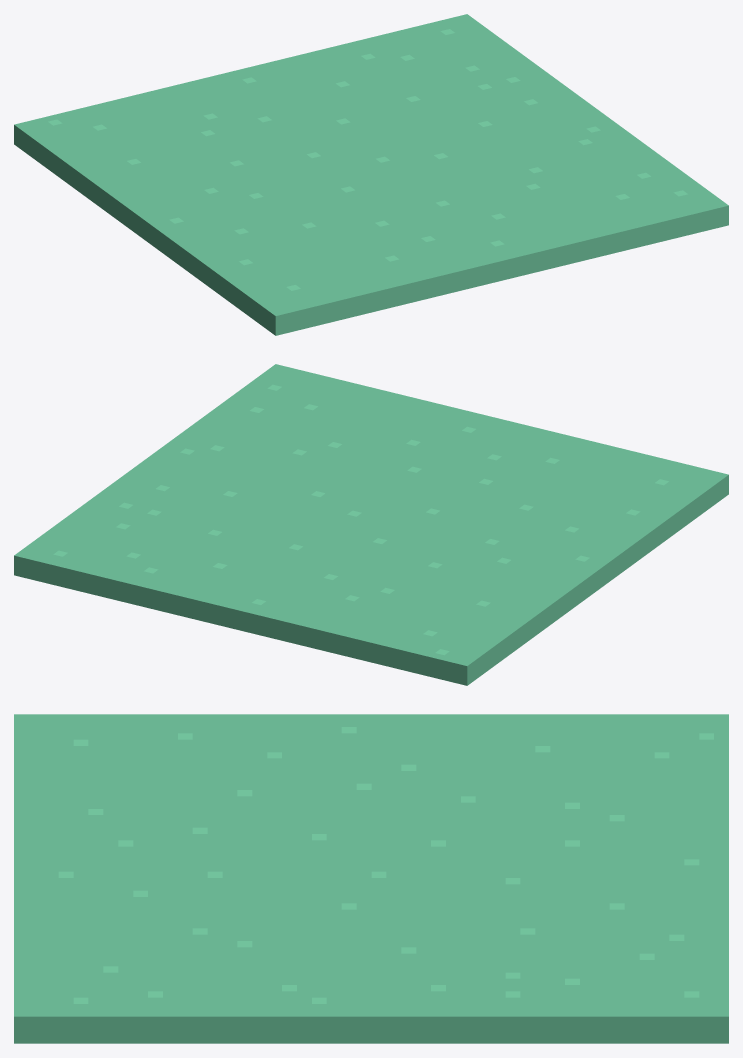
The model's file is grass-path.obj.
3 views of the same model, one above another, from view 1: azimuth 30°, elevation 25°; view 2: azimuth 150°, elevation 25°; view 3: azimuth 270°, elevation 25° (orthographic). The views are drawn at different scales.
Bounding box in the file's own units: 4.8 × 0.2 × 4.8.
1 material, 1 textured.
